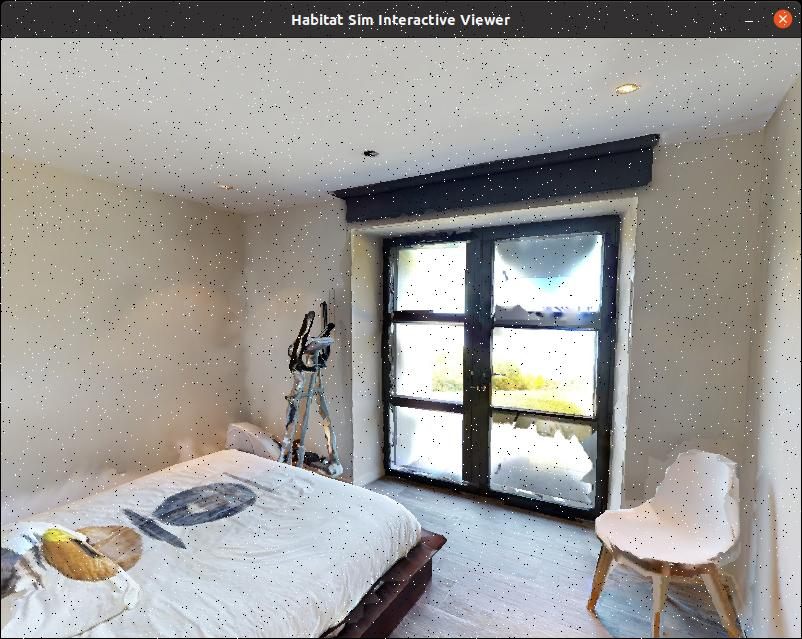bed: (0, 428, 462, 638)
chair: (571, 439, 792, 639)
